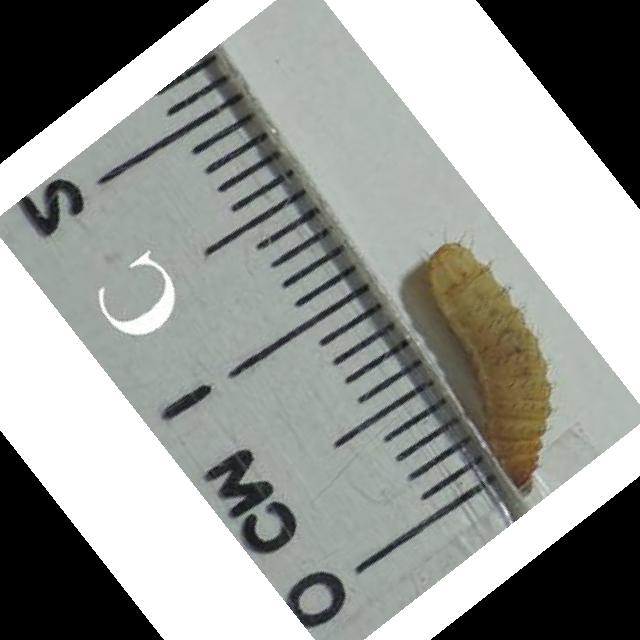Maggot: (421, 239, 556, 497)
